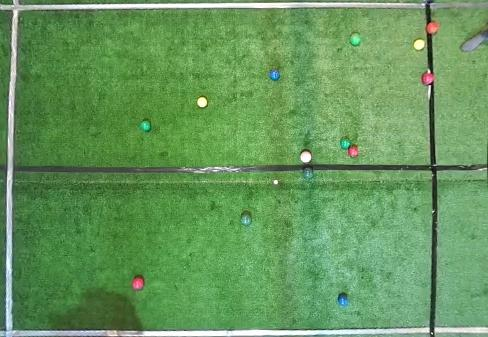blue: (338, 294, 348, 307), (269, 70, 279, 80)
green: (349, 33, 361, 46), (240, 214, 252, 225), (302, 167, 314, 178), (140, 120, 151, 132), (340, 138, 351, 149)
red: (132, 277, 144, 290), (422, 72, 434, 85), (426, 22, 438, 34), (300, 151, 311, 163), (348, 146, 358, 157)
vline: (428, 86, 487, 336), (0, 0, 21, 336), (427, 35, 487, 72), (424, 0, 487, 23)
white: (274, 180, 278, 185)
yellow: (196, 97, 208, 108), (413, 39, 425, 50)
